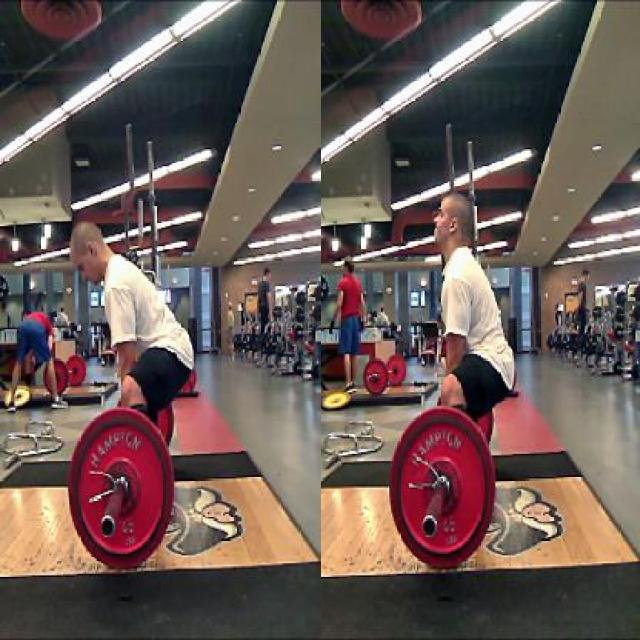Barbell: (420, 514, 440, 538), (98, 514, 115, 538), (368, 373, 372, 382)
